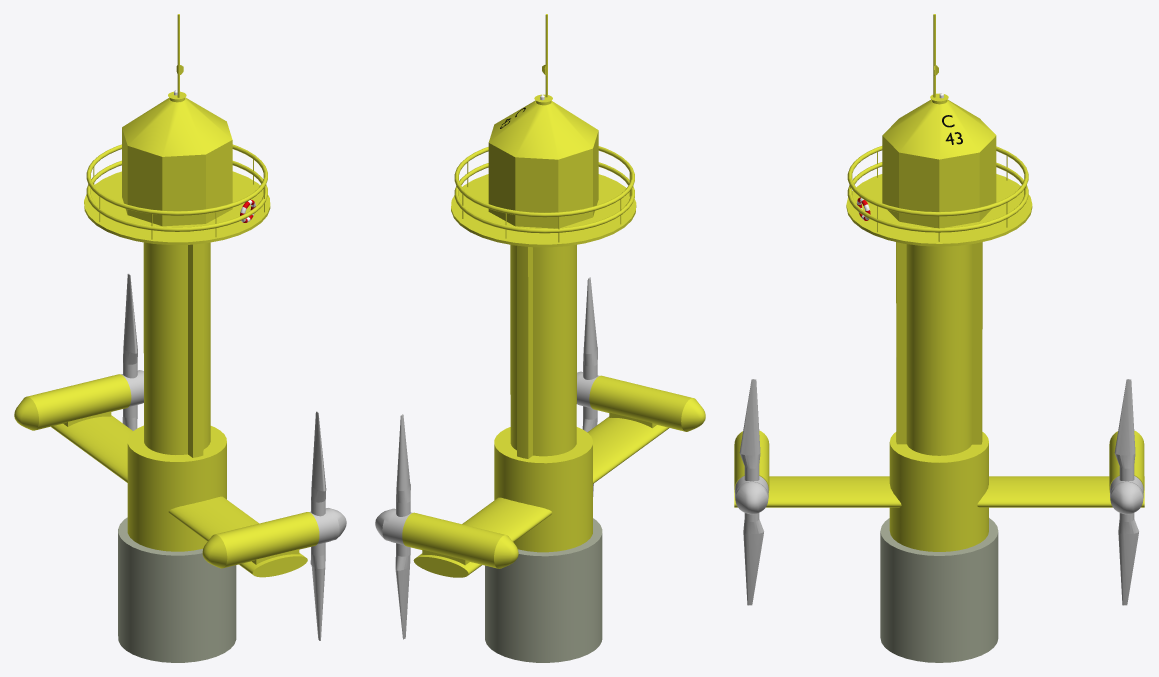
File: PowerstationAnimationFin.gltf
3 views of the same model, side by side, from view 1: azimuth 30°, elevation 25°; view 2: azimuth 150°, elevation 25°; view 3: azimuth 270°, elevation 25° (orthographic).
Parts seen in each view (by area): view 1: Turm, Spitze, Halter, Arm, TurbineL, Plattform, TurbineR, Gelaender, Blatneu.003, Blatneu, BlatneuL; view 2: Turm, Spitze, Halter, Arm, Plattform, TurbineR, TurbineL, Gelaender, Blatneu.003, Blatneu, BlatneuR; view 3: Turm, Spitze, Halter, Arm, Plattform, Gelaender, TurbineL, TurbineR, Blatneu.003, Blatneu, BlatneuL, BlatneuR.
Boxes of the visible parts, bbox=[...] form: Turm: bbox=[118, 90, 236, 662]; Spitze: bbox=[122, 97, 232, 226]; Halter: bbox=[127, 425, 226, 551]; Arm: bbox=[51, 415, 307, 577]; TurbineL: bbox=[202, 508, 346, 568]; Plattform: bbox=[84, 171, 270, 244]; TurbineR: bbox=[14, 370, 143, 430]; Gelaender: bbox=[86, 144, 267, 231]; Blatneu.003: bbox=[311, 411, 326, 516]; Blatneu: bbox=[123, 273, 137, 378]; BlatneuL: bbox=[310, 542, 325, 640]; Turm: bbox=[485, 94, 602, 662]; Spitze: bbox=[488, 100, 598, 228]; Halter: bbox=[494, 427, 592, 552]; Arm: bbox=[413, 416, 668, 577]; Plattform: bbox=[451, 174, 636, 247]; TurbineR: bbox=[375, 508, 518, 568]; TurbineL: bbox=[577, 371, 705, 431]; Gelaender: bbox=[454, 146, 634, 233]; Blatneu.003: bbox=[583, 277, 597, 379]; Blatneu: bbox=[396, 414, 410, 516]; BlatneuR: bbox=[395, 543, 410, 639]; Turm: bbox=[880, 93, 998, 662]; Spitze: bbox=[882, 99, 996, 228]; Halter: bbox=[889, 432, 988, 551]; Arm: bbox=[734, 476, 1144, 507]; Plattform: bbox=[846, 174, 1032, 246]; Gelaender: bbox=[847, 146, 1028, 232]; TurbineL: bbox=[734, 430, 769, 514]; TurbineR: bbox=[1109, 430, 1144, 514]; Blatneu.003: bbox=[739, 379, 760, 481]; Blatneu: bbox=[1114, 379, 1135, 481]; BlatneuL: bbox=[743, 513, 763, 605]; BlatneuR: bbox=[1118, 513, 1138, 605].
Size of the model in its own units: 3.26 by 12.05 by 7.19.
